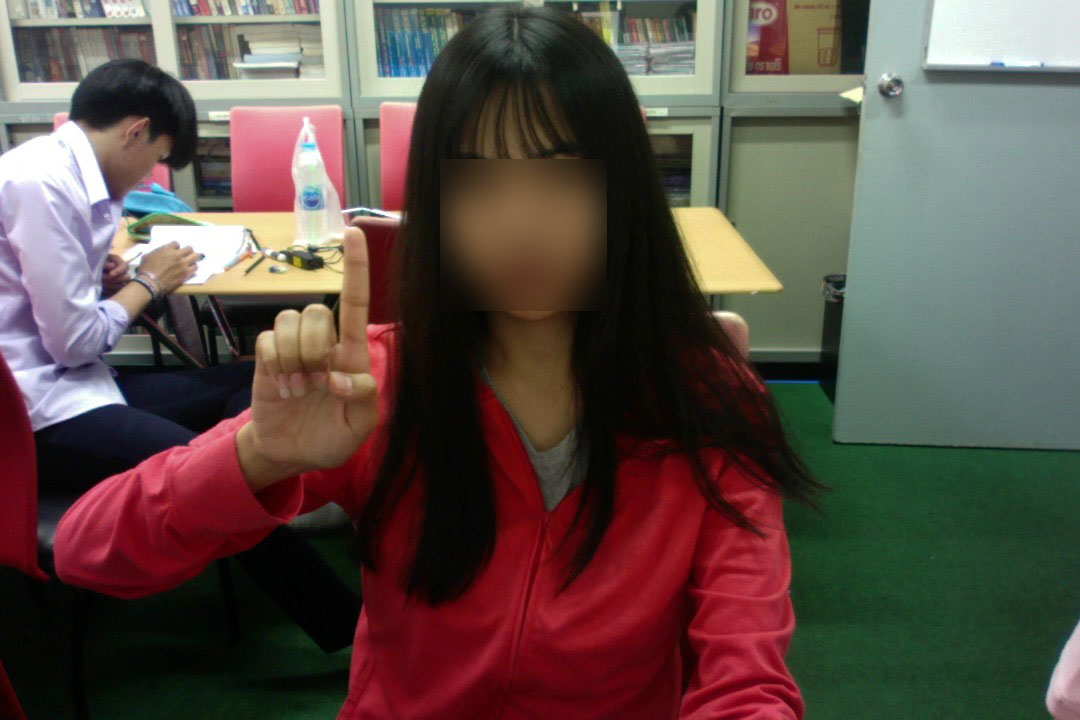dor: (240, 221, 385, 484)
